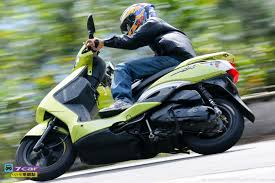helmet: (116, 6, 160, 35)
